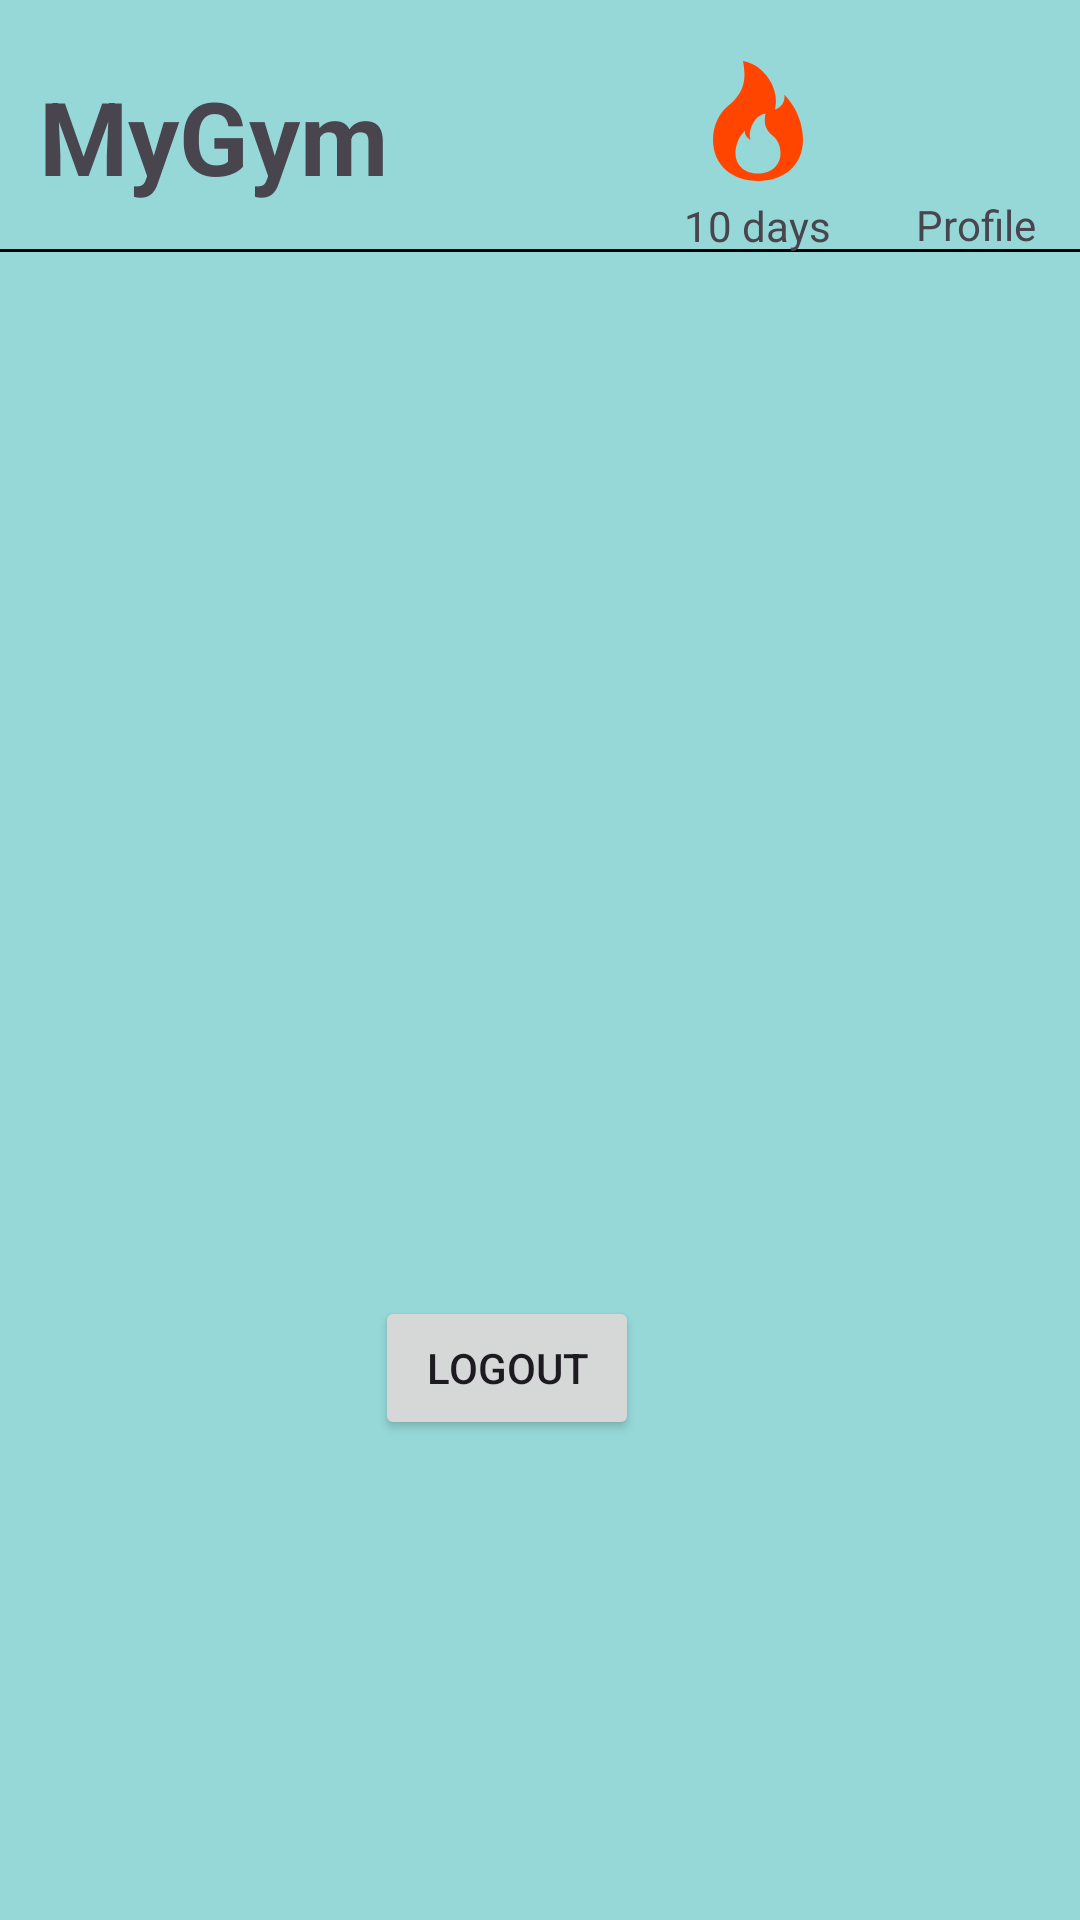

Icons on this 1080 × 1920 Android screen, each with the point to tap as (x,y):
fire streamline bootstrap: (758,121)
